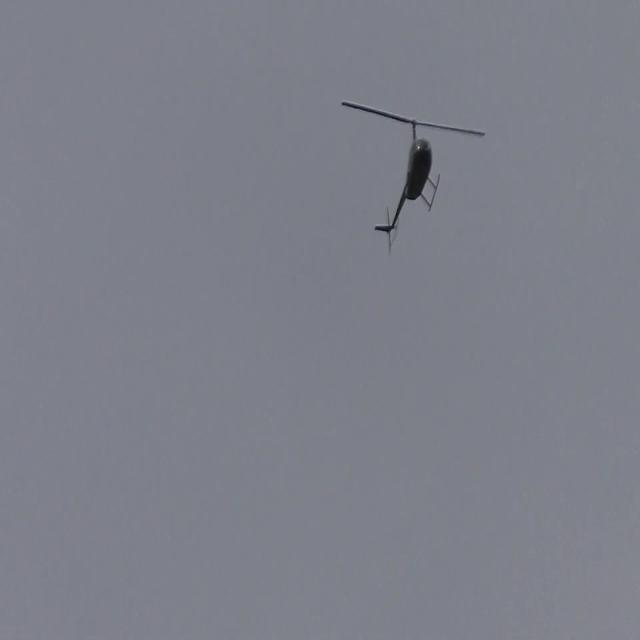CIV_HELO: (375, 119, 441, 236)
